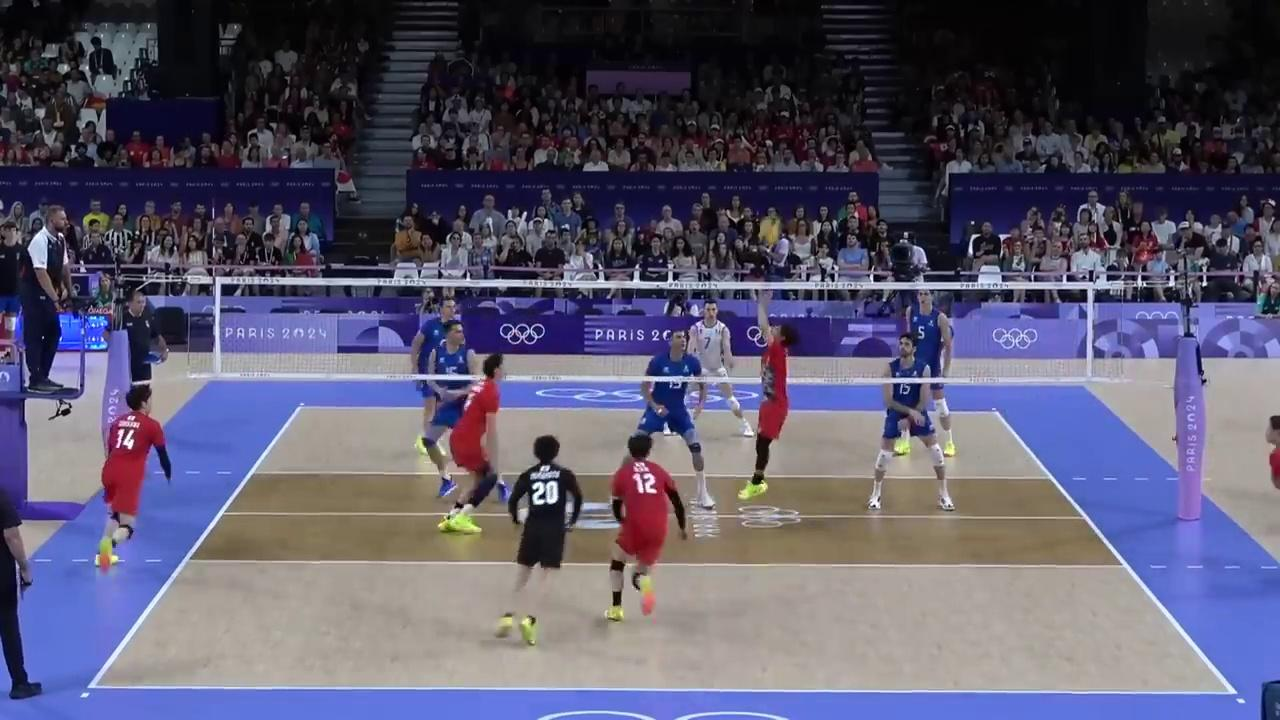ball: (761, 216, 779, 242)
